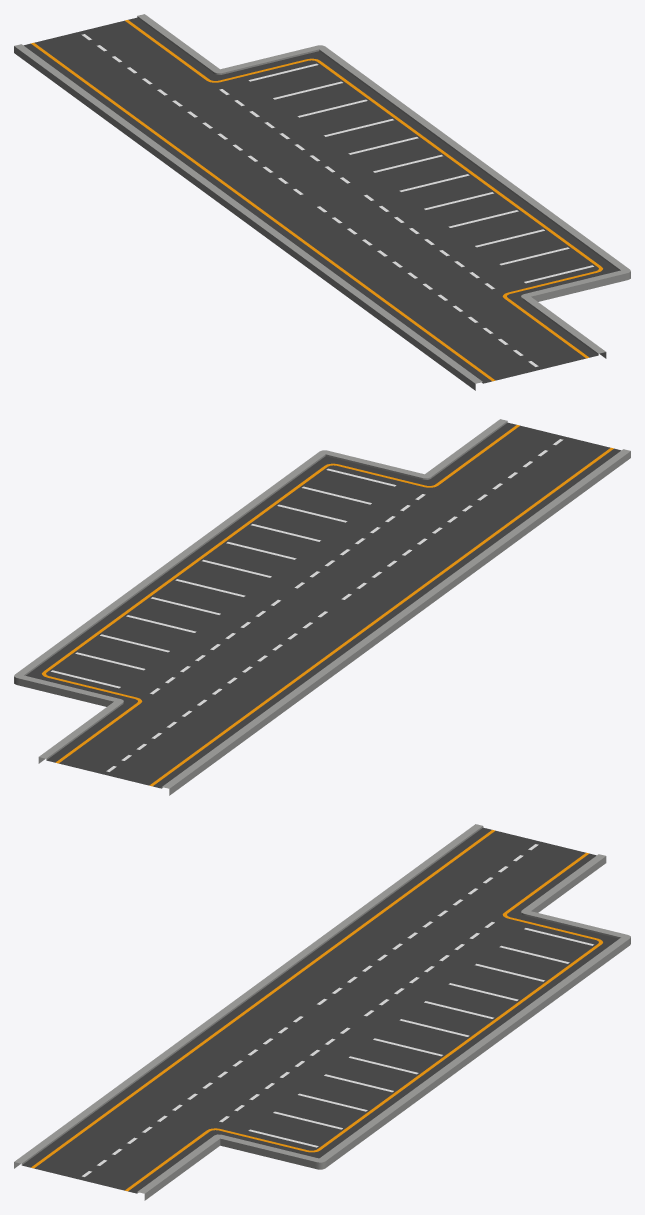
The model's file is ParkingRoad_A_7.fbx.
3 renders of one model, top to bottom at view 1: azimuth 30°, elevation 25°; view 2: azimuth 150°, elevation 25°; view 3: azimuth 330°, elevation 25°, orthographic.
Visible parts, largest first — view 1: ParkingRoad_A_7; view 2: ParkingRoad_A_7; view 3: ParkingRoad_A_7.
Boxes of the visible parts, x1,y1,x2,y2 form: ParkingRoad_A_7: (14,14,630,390); ParkingRoad_A_7: (14,419,630,795); ParkingRoad_A_7: (14,824,630,1200).
Size of the model in its own units: 1426 by 41.49 by 4893.
